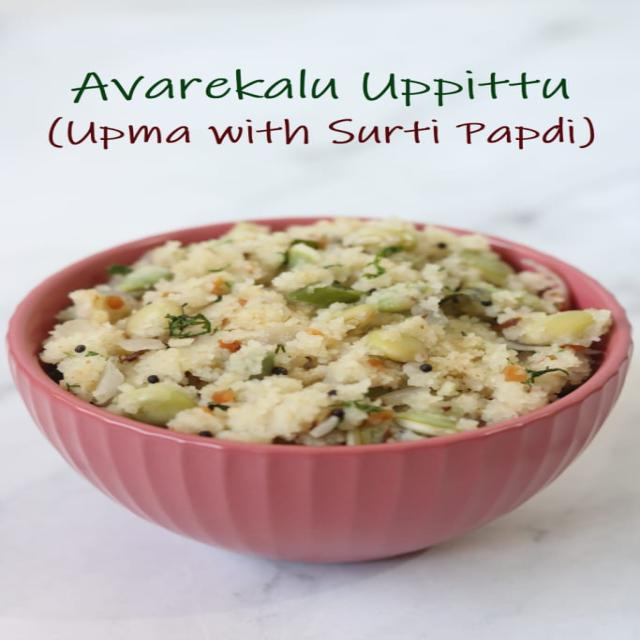upma: (0, 206, 640, 467)
